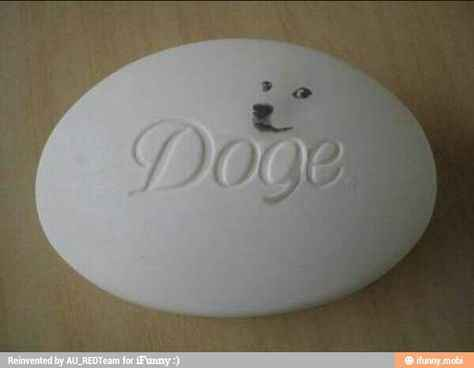doge: (243, 66, 323, 136)
